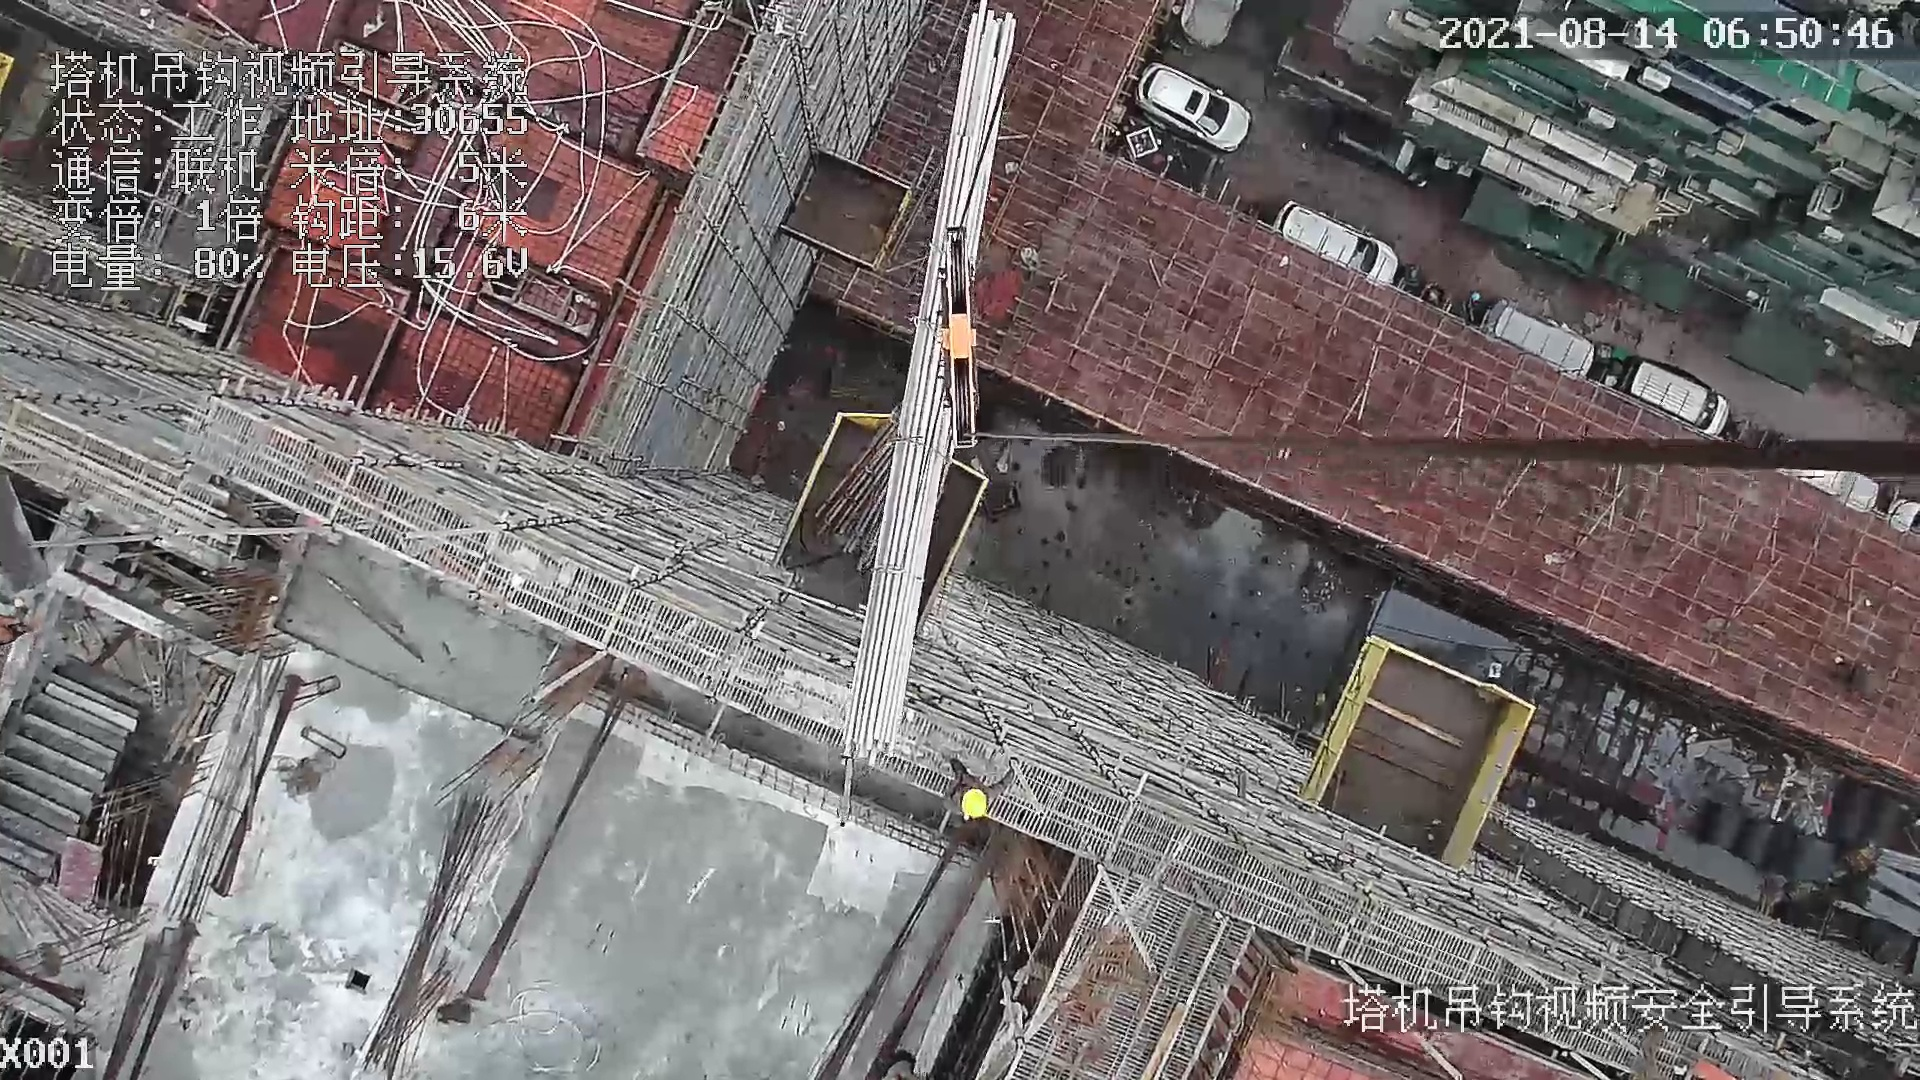helmet: (951, 781, 995, 824)
hook: (926, 226, 987, 456)
person: (929, 745, 1020, 822)
